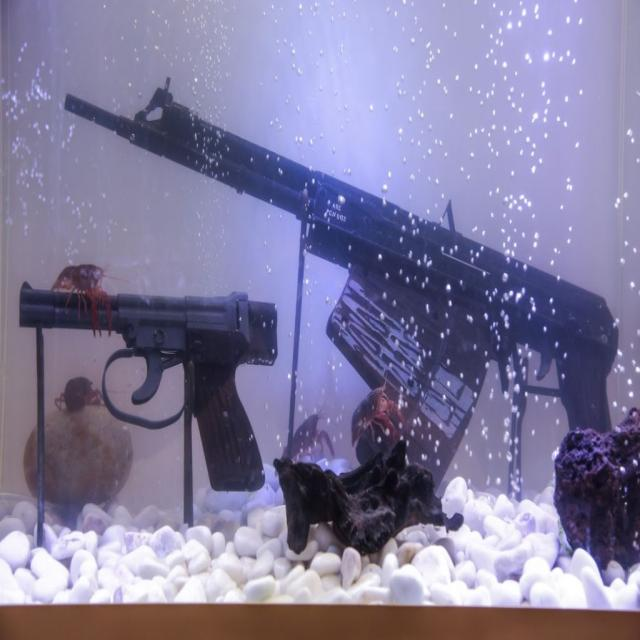firearm: (66, 74, 620, 440)
pistol: (18, 282, 280, 492)
